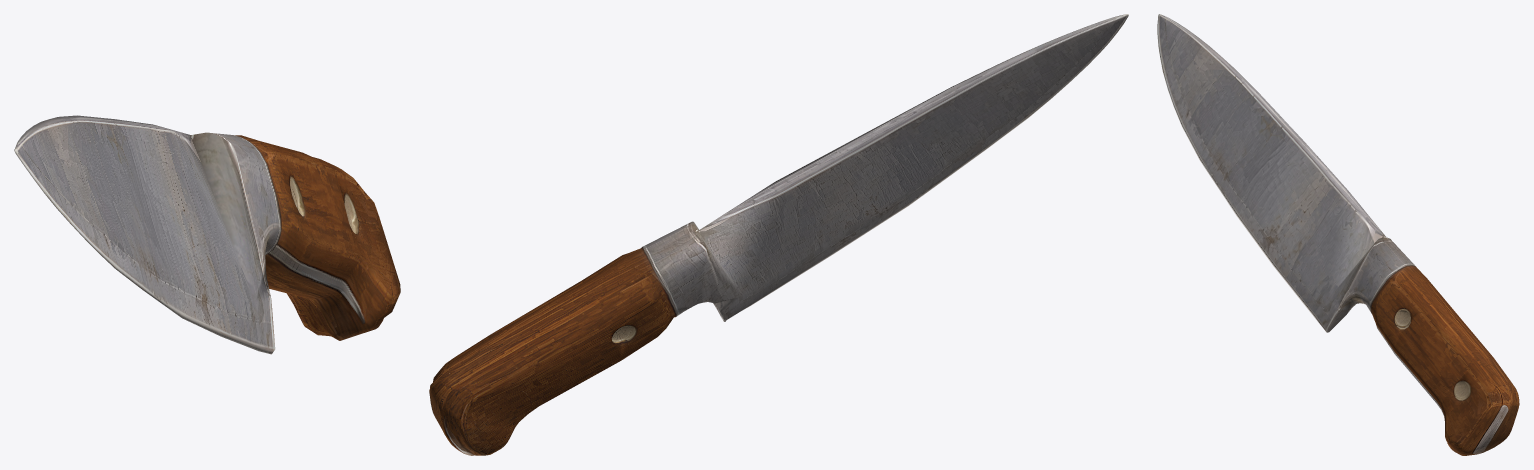
The model's file is P27_kitchen_knife_Runtime_1k.glb.
3 renders of one model, left to right at view 1: azimuth 30°, elevation 25°; view 2: azimuth 150°, elevation 25°; view 3: azimuth 270°, elevation 25°, orthographic. The views are drawn at different scales.
Parts seen in each view (by area): view 1: tripo_node_f595ce6d; view 2: tripo_node_f595ce6d; view 3: tripo_node_f595ce6d.
Part boxes in pixels (x1,y1,x2,y2): tripo_node_f595ce6d: [14, 115, 400, 354]; tripo_node_f595ce6d: [429, 14, 1128, 455]; tripo_node_f595ce6d: [1157, 14, 1519, 455].
Bounding box in the file's own units: 0.245 × 0.1945 × 0.2237.
1 material, 1 textured.
